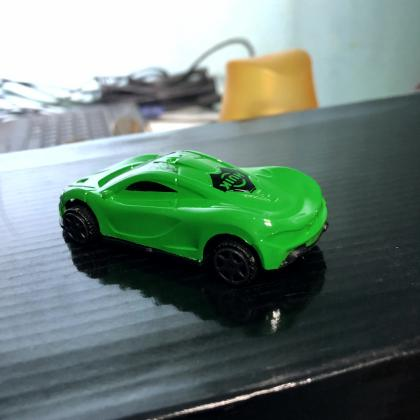Car: (58, 151, 329, 286)
